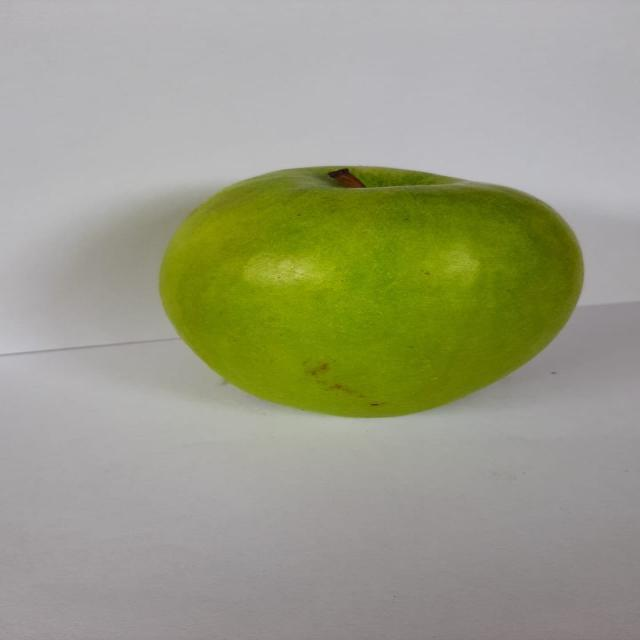50-_ripeness: (146, 156, 593, 432)
